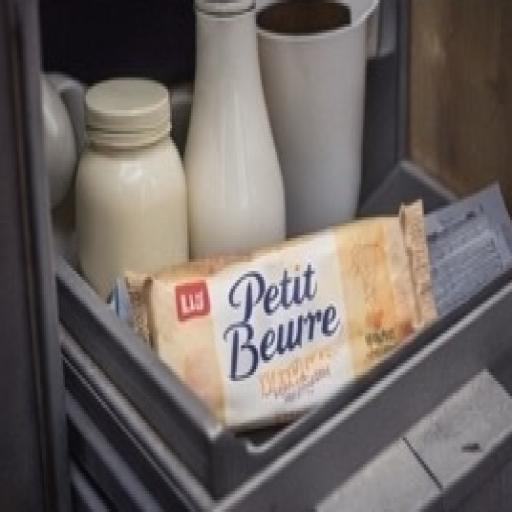petit-beurre: (102, 188, 468, 440)
